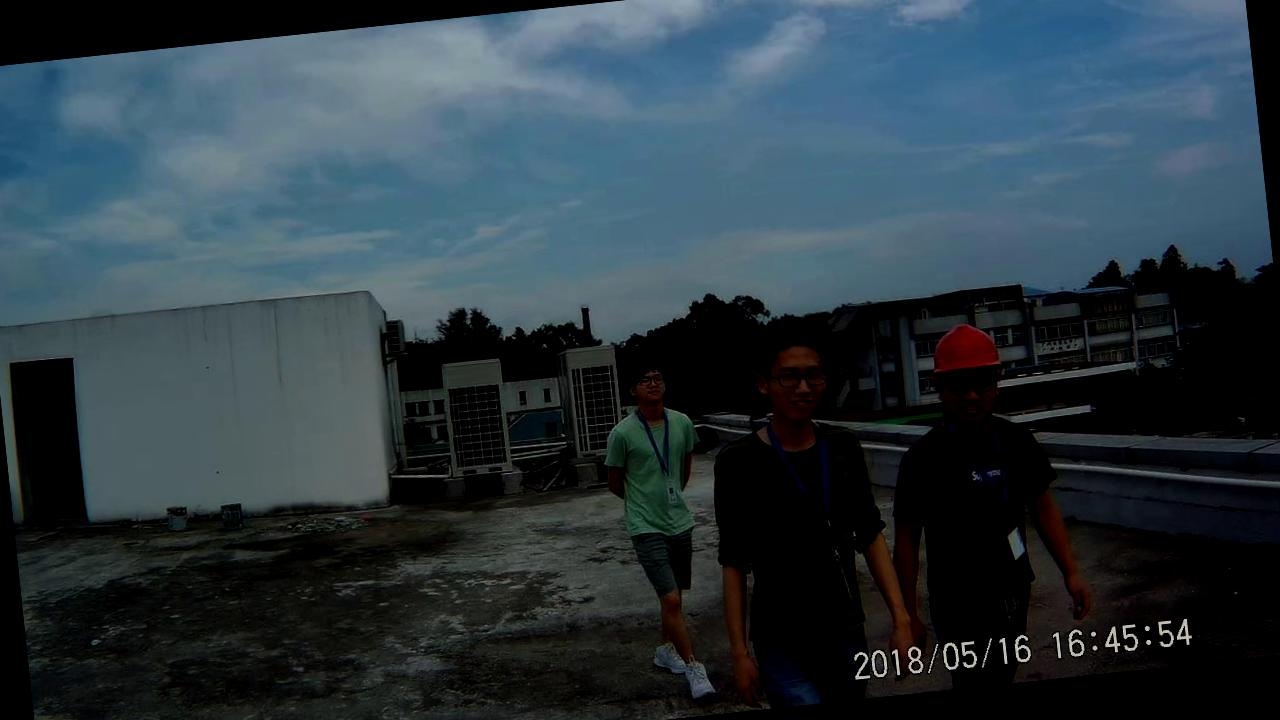helmet: (923, 319, 1009, 378)
no_vest: (726, 430, 883, 648), (914, 424, 1050, 622), (617, 413, 696, 534)
person: (708, 320, 886, 708), (897, 316, 1057, 640), (598, 348, 728, 686)
